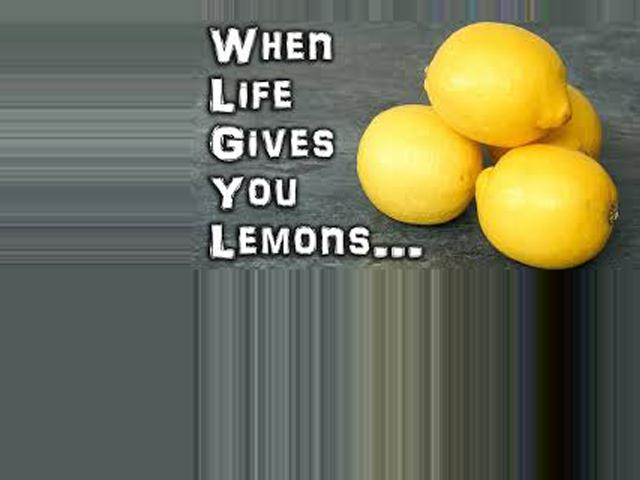lemon: (465, 145, 616, 259)
